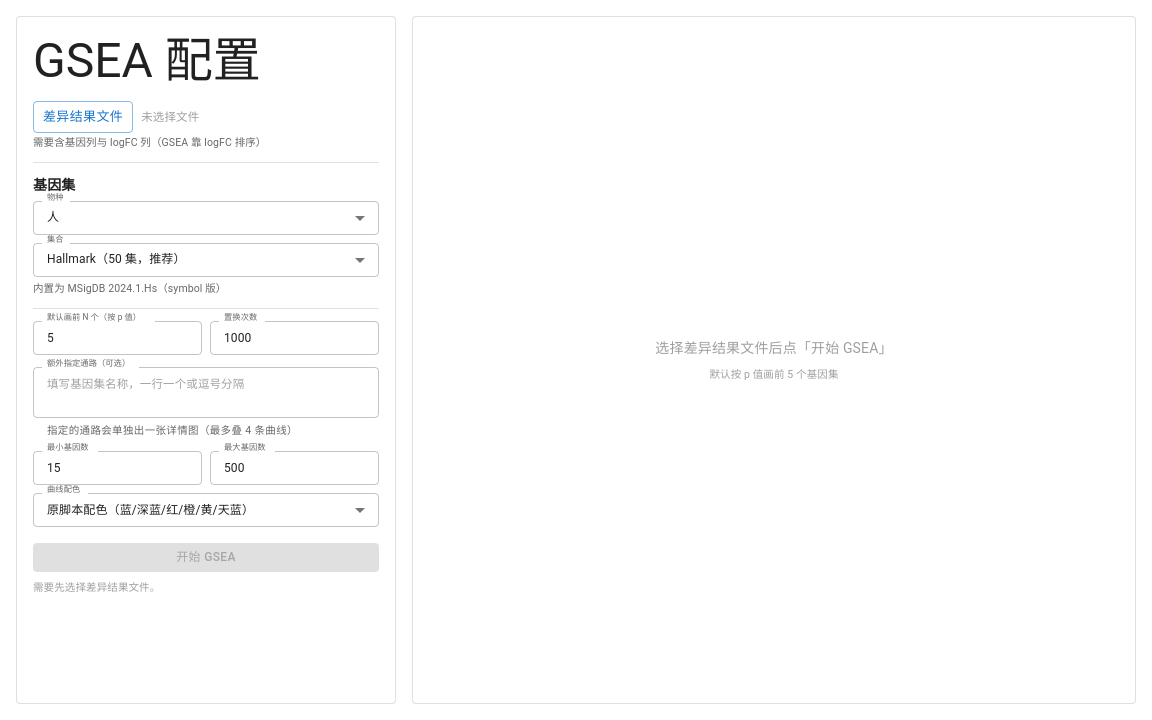
GseaPage › 跑通后展示结果摘要
The width and height of the screenshot is (1152, 720).
Click the button "差异结果文件" at (83, 117), box [33, 101, 133, 133]
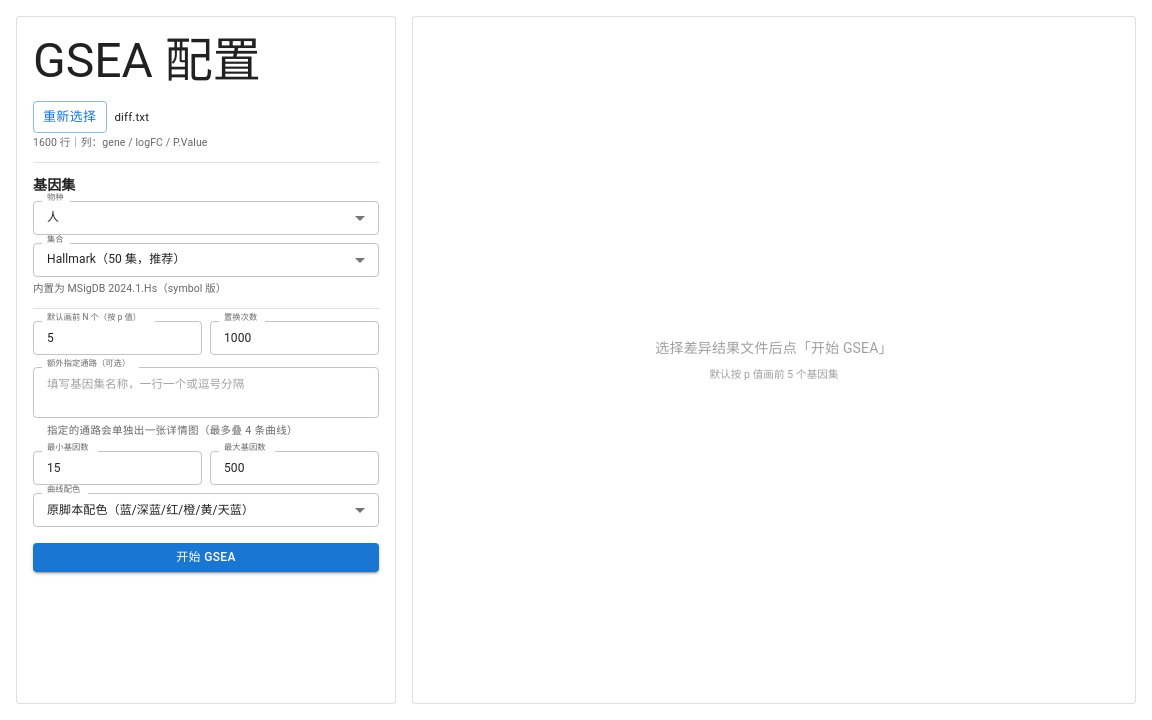
Check: the text "1600 行｜列：gene / logFC / P.Value" is shown, box [33, 136, 208, 149]
Click the button "开始 GSEA" at (206, 558), box [33, 544, 379, 572]
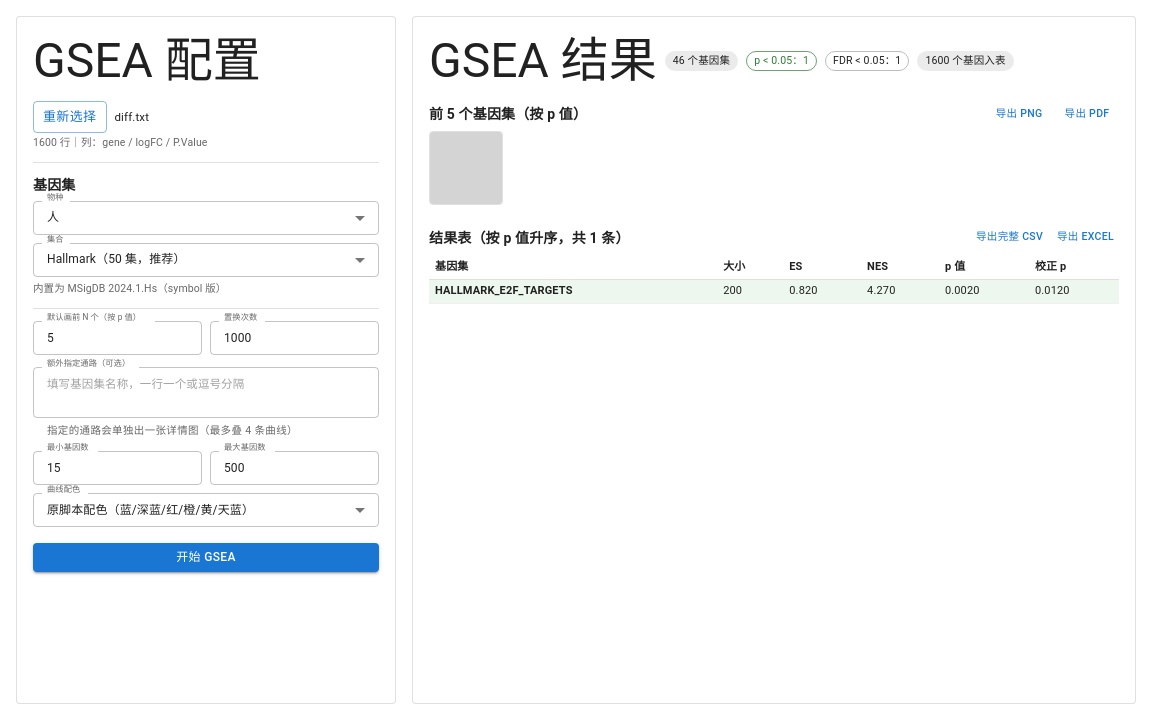
Check: the heading "GSEA 结果" is shown, box [429, 33, 657, 89]
Check: the text "46 个基因集" is shown, box [673, 54, 730, 67]
Check: the text "p < 0.05：1" is shown, box [754, 54, 809, 67]
